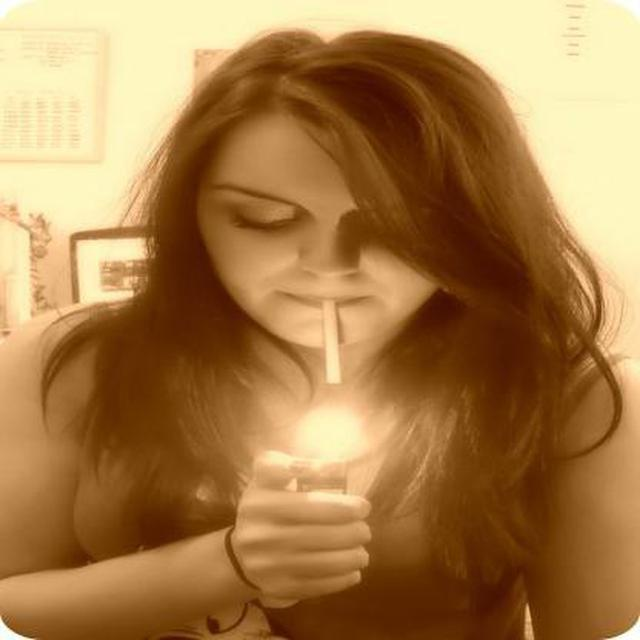smoking: (308, 301, 355, 390)
